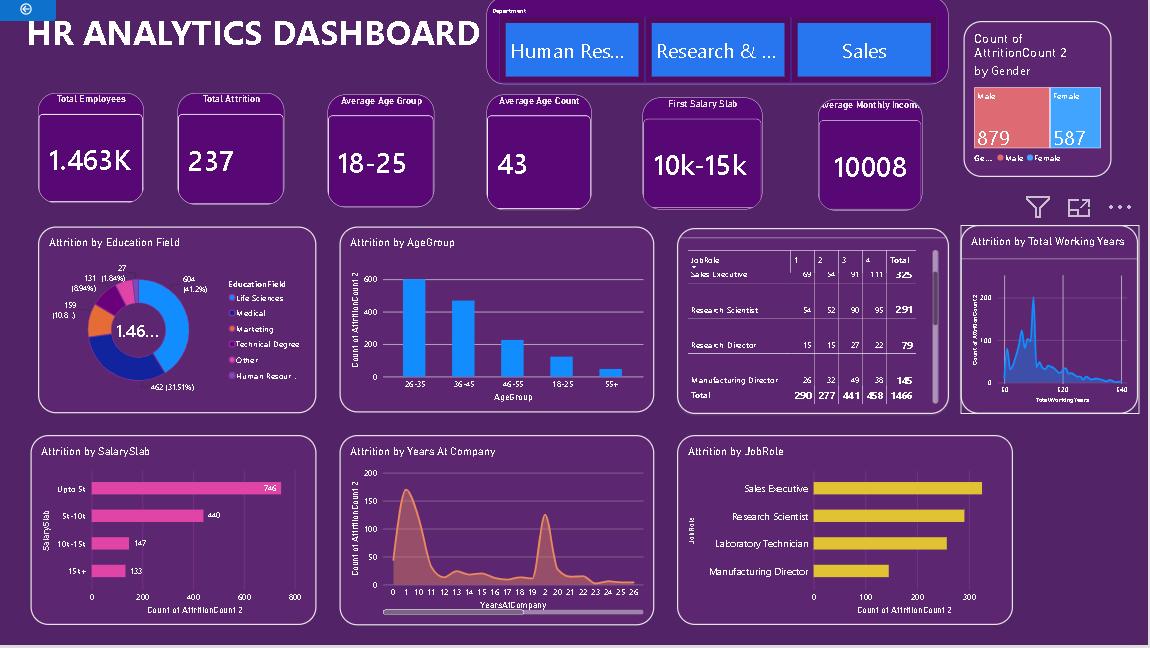

This screenshot's page, from the dashboard's own definition file:
{"tool":"powerbi","page":{"name":"Page 2","canvas":[1920,1080],"ordinal":0},"visuals":[{"type":"cardVisual","title":"Total Employees","fields":{"Data":["Count(HR_Analytics.EmpID)"]},"box":[70,160,176.7,183.3],"z":0},{"type":"cardVisual","title":"Average Age Count ","fields":{"Data":["Count(HR_Analytics.Age)"]},"box":[817.5,162.5,175,192.5],"z":1000},{"type":"cardVisual","title":"First Salary Slab","fields":{"Data":["Min(HR_Analytics.SalarySlab)"]},"box":[1077.5,167.5,200,186.7],"z":2000},{"type":"actionButton","box":[0,0,100,40],"z":3000},{"type":"cardVisual","title":"Average Monthly Income","fields":{"Data":["Min(HR_Analytics.MonthlyIncome)"]},"box":[1370,170,174,186],"z":4000},{"type":"cardVisual","title":"Average Age Group","fields":{"Data":["Min(HR_Analytics.AgeGroup)"]},"box":[552.5,162.5,178,188],"z":5000},{"type":"cardVisual","title":"Total Attrition","fields":{"Data":["HR_Analytics.Total Attrition"]},"box":[302.5,160,178,186],"z":6000},{"type":"donutChart","title":" Attrition by Education Field","fields":{"Category":["HR_Analytics.EducationField"],"Y":["CountNonNull(HR_Analytics.AttritionCount 2)"]},"box":[70,383.3,464,311],"z":7000},{"type":"columnChart","title":" Attrition by AgeGroup","fields":{"Category":["HR_Analytics.AgeGroup"],"Y":["CountNonNull(HR_Analytics.AttritionCount 2)"]},"box":[572.6,381.7,524.9,310.2],"z":8000},{"type":"pivotTable","fields":{"Columns":["HR_Analytics.JobSatisfaction"],"Rows":["HR_Analytics.JobRole"],"Values":["CountNonNull(HR_Analytics.AttritionCount 2)"]},"box":[1135.7,384.1,453.3,310.2],"z":9000},{"type":"barChart","title":"Attrition by SalarySlab","fields":{"Category":["HR_Analytics.SalarySlab"],"Y":["CountNonNull(HR_Analytics.AttritionCount 2)"]},"box":[56.7,730,476.7,316.7],"z":10000},{"type":"areaChart","title":"Attrition by Years At Company","fields":{"Category":["HR_Analytics.YearsAtCompany"],"Y":["CountNonNull(HR_Analytics.AttritionCount 2)"]},"box":[572.6,730.1,524.9,317.3],"z":11000},{"type":"barChart","title":" Attrition by JobRole","fields":{"Category":["HR_Analytics.JobRole"],"Y":["CountNonNull(HR_Analytics.AttritionCount 2)"]},"box":[1135.7,730.1,560,316.7],"z":12000},{"type":"treemap","fields":{"Group":["HR_Analytics.Gender"],"Values":["CountNonNull(HR_Analytics.AttritionCount 2)"]},"box":[1613.3,40,246.7,260],"z":13000},{"type":"slicer","fields":{"Values":["HR_Analytics.Department"]},"box":[817.5,0,770,145],"z":14000},{"type":"textbox","box":[50,20,767.5,92.5],"z":15000},{"type":"stackedAreaChart","title":" Attrition by Total Working Years","fields":{"Category":["HR_Analytics.TotalWorkingYears"],"Y":["CountNonNull(HR_Analytics.AttritionCount 2)"]},"box":[1608.1,379.4,295.9,314.9],"z":16000}]}

Visuals, with their boxes in screenshot pixels (x1, y1, x2, y2), scaled from the page's 1920x1080 canvas onto the 1150x648 screenshot:
"Total Employees" cardVisual: {"x1": 42, "y1": 96, "x2": 148, "y2": 206}
"Average Age Count " cardVisual: {"x1": 490, "y1": 98, "x2": 594, "y2": 213}
"First Salary Slab" cardVisual: {"x1": 645, "y1": 100, "x2": 765, "y2": 213}
actionButton: {"x1": 0, "y1": 0, "x2": 60, "y2": 24}
"Average Monthly Income" cardVisual: {"x1": 821, "y1": 102, "x2": 925, "y2": 214}
"Average Age Group" cardVisual: {"x1": 331, "y1": 98, "x2": 438, "y2": 210}
"Total Attrition" cardVisual: {"x1": 181, "y1": 96, "x2": 288, "y2": 208}
" Attrition by Education Field" donutChart: {"x1": 42, "y1": 230, "x2": 320, "y2": 417}
" Attrition by AgeGroup" columnChart: {"x1": 343, "y1": 229, "x2": 657, "y2": 415}
pivotTable - HR_Analytics.JobSatisfaction x HR_Analytics.JobRole: {"x1": 680, "y1": 230, "x2": 952, "y2": 417}
"Attrition by SalarySlab" barChart: {"x1": 34, "y1": 438, "x2": 319, "y2": 628}
"Attrition by Years At Company" areaChart: {"x1": 343, "y1": 438, "x2": 657, "y2": 628}
" Attrition by JobRole" barChart: {"x1": 680, "y1": 438, "x2": 1016, "y2": 628}
treemap - HR_Analytics.Gender x CountNonNull(HR_Analytics.AttritionCount 2): {"x1": 966, "y1": 24, "x2": 1114, "y2": 180}
slicer - HR_Analytics.Department: {"x1": 490, "y1": 0, "x2": 951, "y2": 87}
textbox: {"x1": 30, "y1": 12, "x2": 490, "y2": 68}
" Attrition by Total Working Years" stackedAreaChart: {"x1": 963, "y1": 228, "x2": 1140, "y2": 417}
